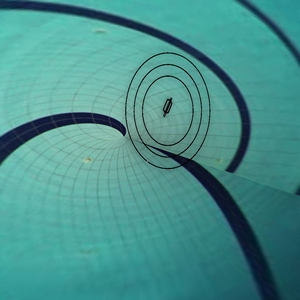circle: (109, 35, 224, 190)
submarine: (156, 91, 182, 120)
